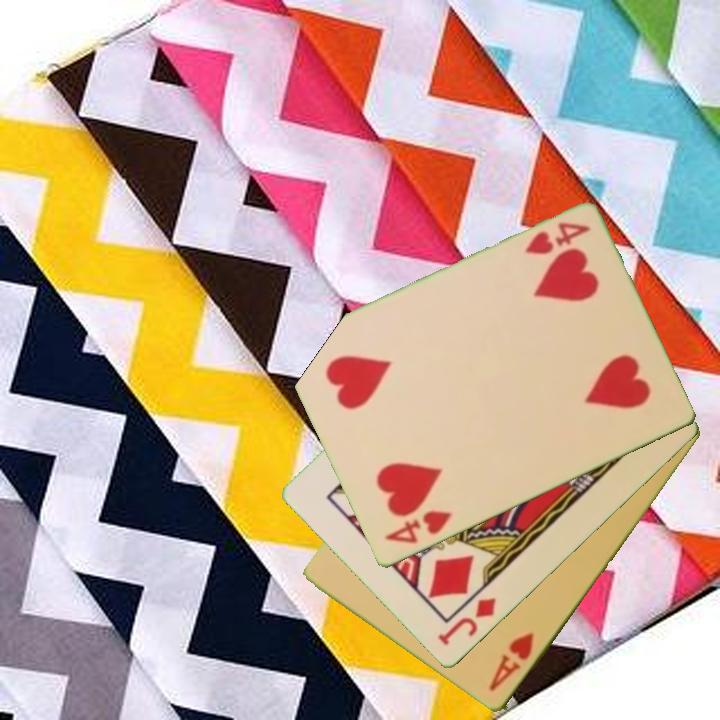4h: (380, 507, 456, 547), (521, 219, 593, 259)
Ah: (485, 629, 537, 695)
Jd: (434, 594, 500, 650)
